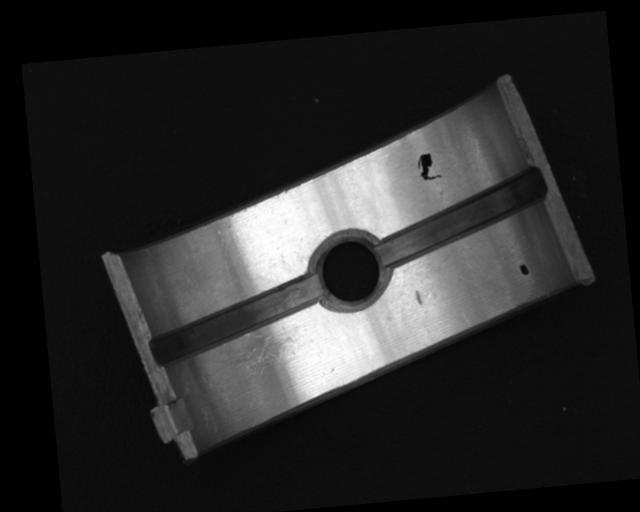blot: (416, 150, 442, 182), (518, 263, 530, 276)
bruise: (413, 288, 423, 305)
gap: (369, 166, 554, 268), (146, 273, 328, 364)
hole: (308, 230, 391, 313)
scratch: (193, 326, 300, 390)
